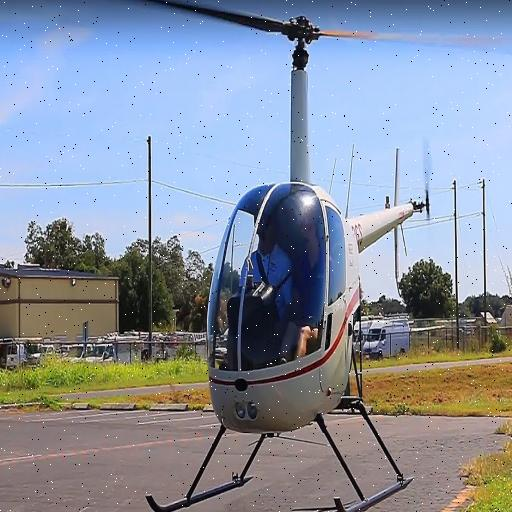helicopter: (145, 1, 512, 512)
